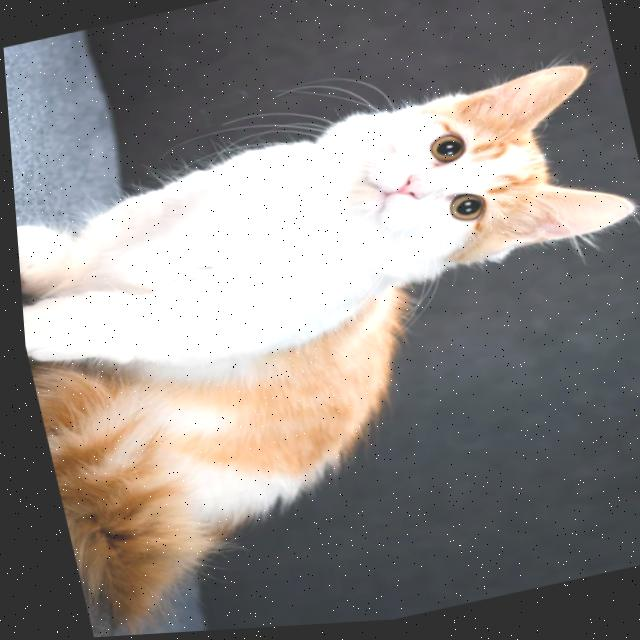Munchkin: (5, 55, 640, 640)
